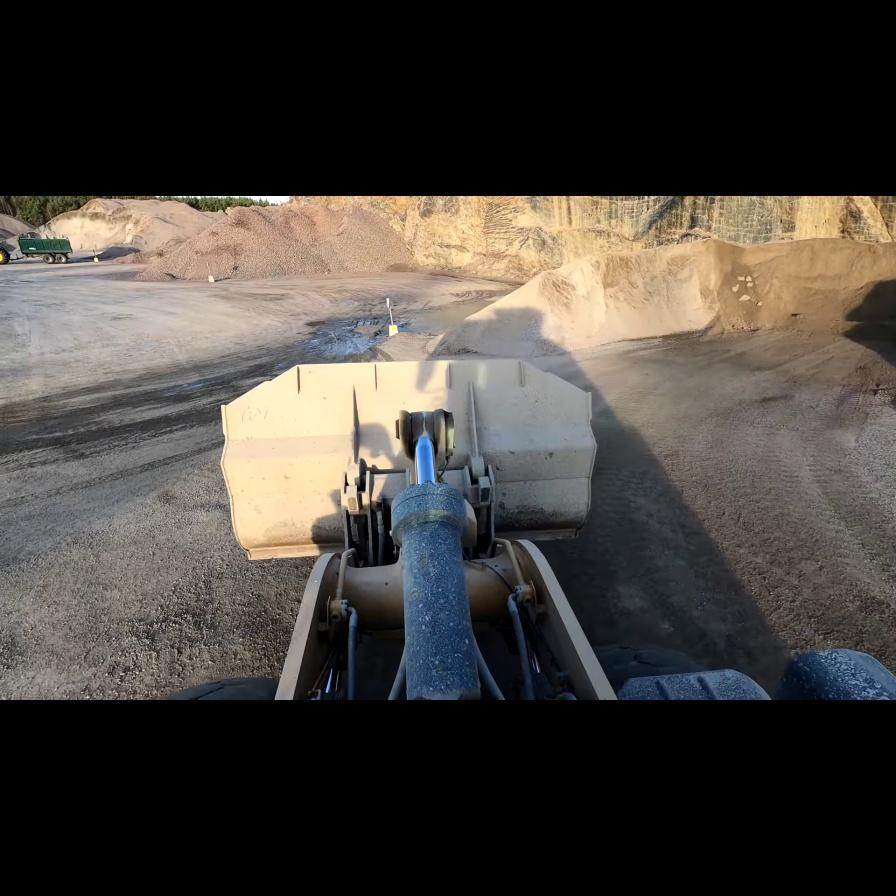pile of gravel: (424, 237, 896, 361), (130, 198, 417, 283), (30, 198, 225, 260)
